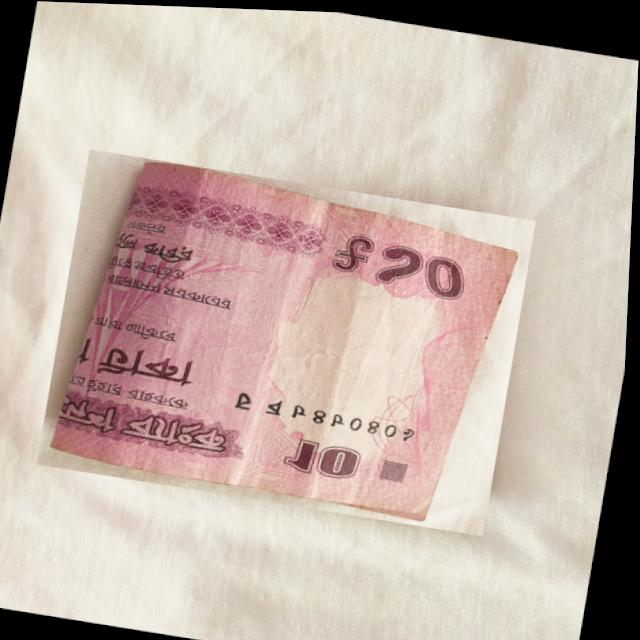Taka: (38, 147, 539, 533)
